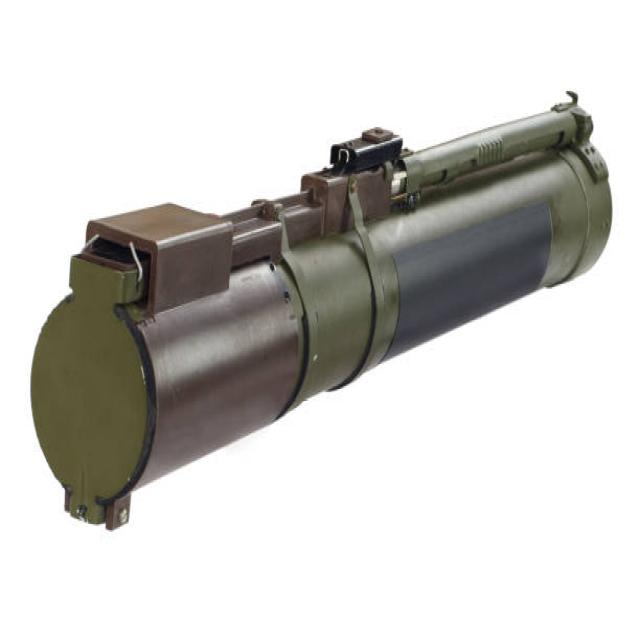bazooka: (21, 84, 620, 541)
